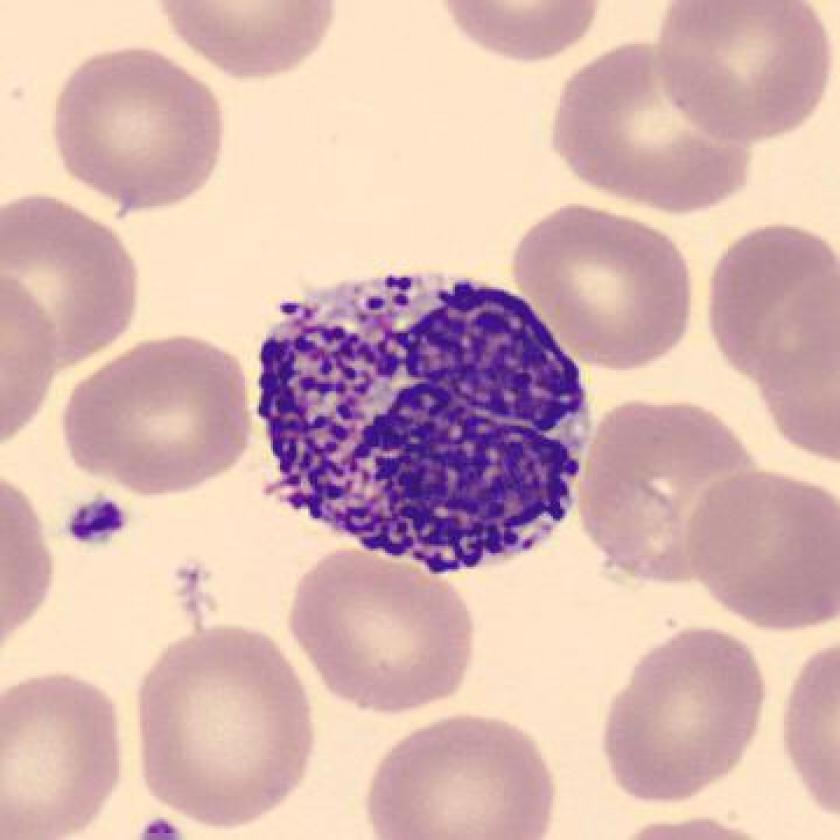basophil: (251, 272, 596, 577)
